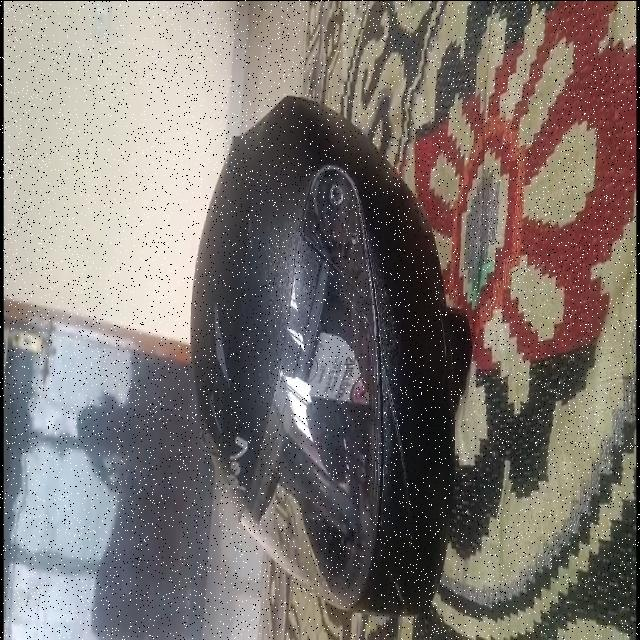Helmet: (190, 95, 461, 617)
